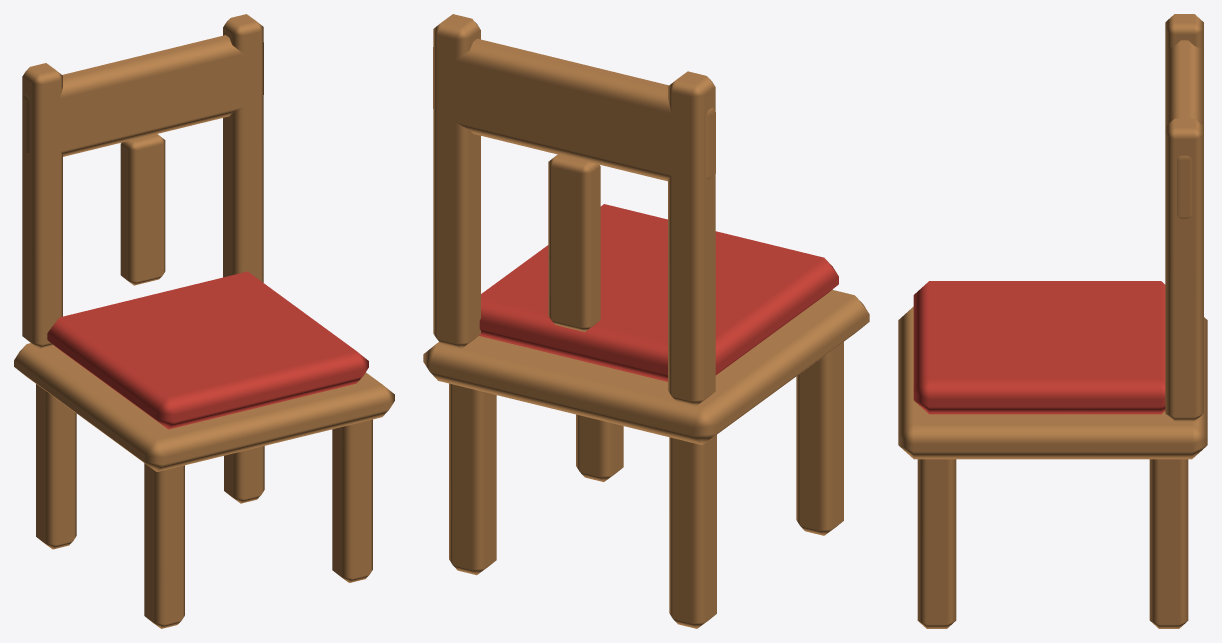
File: chair.glb
3 views of the same model, side by side, from view 1: azimuth 30°, elevation 25°; view 2: azimuth 150°, elevation 25°; view 3: azimuth 270°, elevation 25° (orthographic). The views are drawn at different scales.
Parts seen in each view (by area): view 1: chair; view 2: chair; view 3: chair.
Boxes of the visible parts, box(x1,y1,x2,y2) form: chair: box(14, 14, 394, 628); chair: box(423, 14, 869, 628); chair: box(898, 14, 1207, 628).
Bounding box in the file's own units: 0.4 × 0.72 × 0.4.
